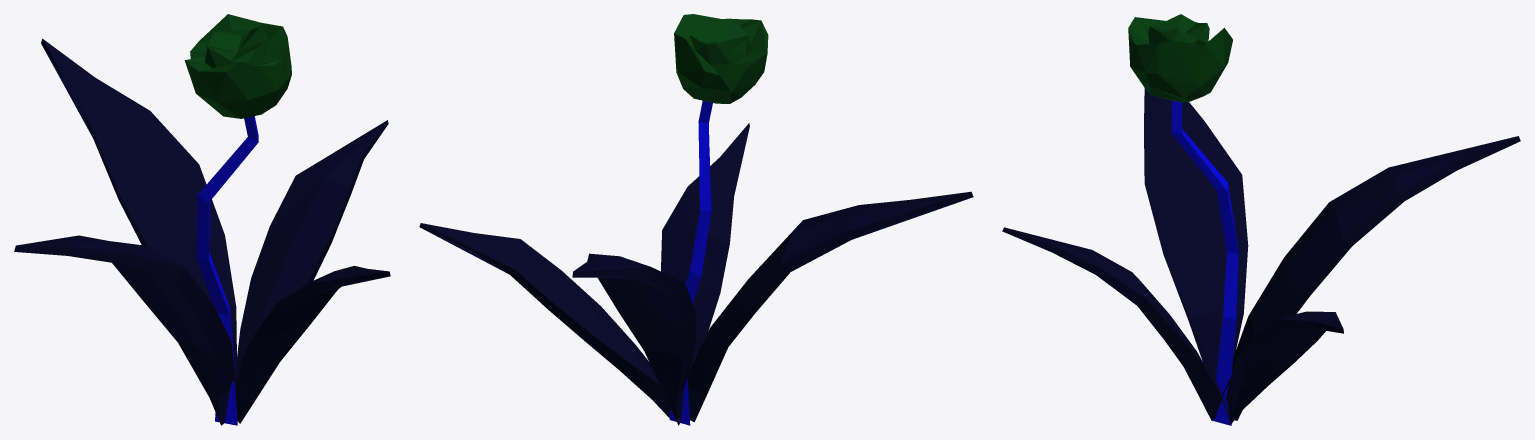
File: PatchRose01.fbx
The picture shows the model from 3 angles, left to right: view 1: azimuth 30°, elevation 25°; view 2: azimuth 150°, elevation 25°; view 3: azimuth 270°, elevation 25°; orthographic projection. The views are drawn at different scales.
Parts seen in each view (by area): view 1: PatchRose01; view 2: PatchRose01; view 3: PatchRose01.
Boxes of the visible parts, box(x1,y1,x2,y2) form: PatchRose01: box(14, 14, 390, 425); PatchRose01: box(419, 14, 973, 425); PatchRose01: box(1002, 14, 1520, 425).
Bounding box in the file's own units: 42.75 × 34.85 × 41.32.
